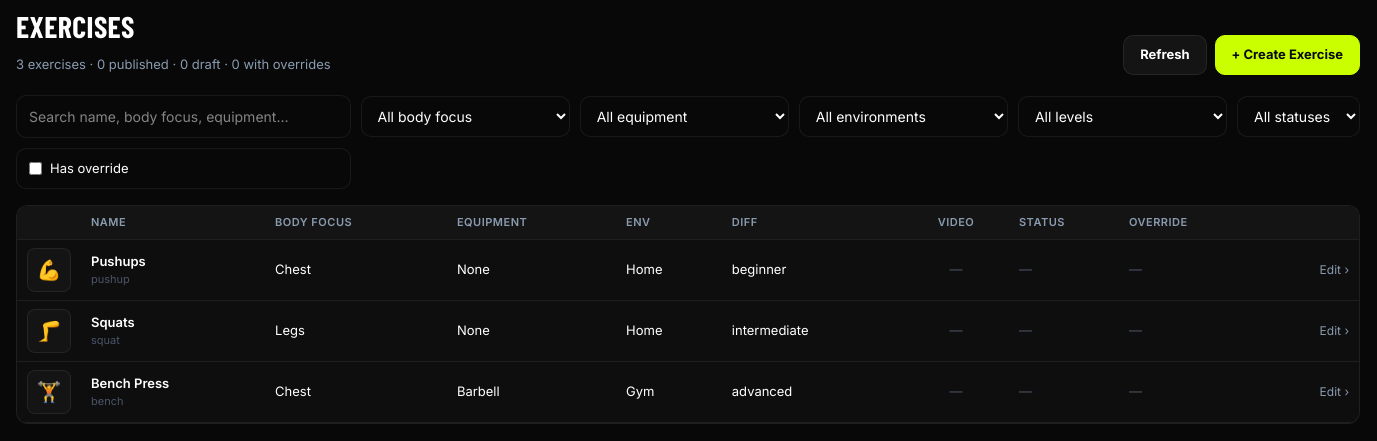
it: ExercisesPage › filters by environment
Check: the text "Pushups" is shown, box 91,252 -> 146,268
Select "Gym" in the 3rd dropdown at point(903, 116), box 799,96 -> 1008,136
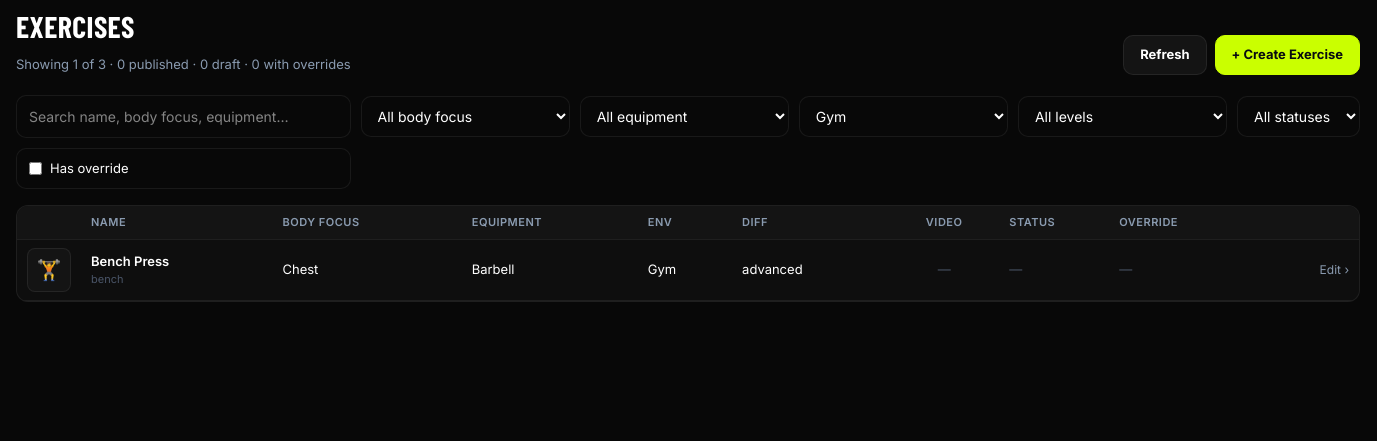
Check: the text "Bench Press" is shown, box 91,252 -> 169,268
Check: the text "Pushups" is gone
